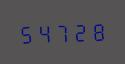eight: (90, 19, 107, 42)
five: (18, 21, 35, 44)
four: (36, 20, 53, 44)
seven: (54, 20, 71, 43)
two: (72, 19, 89, 43)
